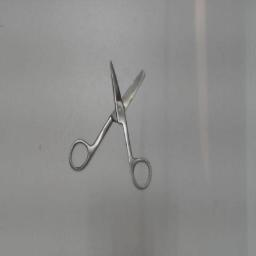Dressing Scissors: (62, 48, 156, 194)
